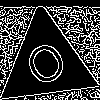O: (21, 37, 76, 98)
